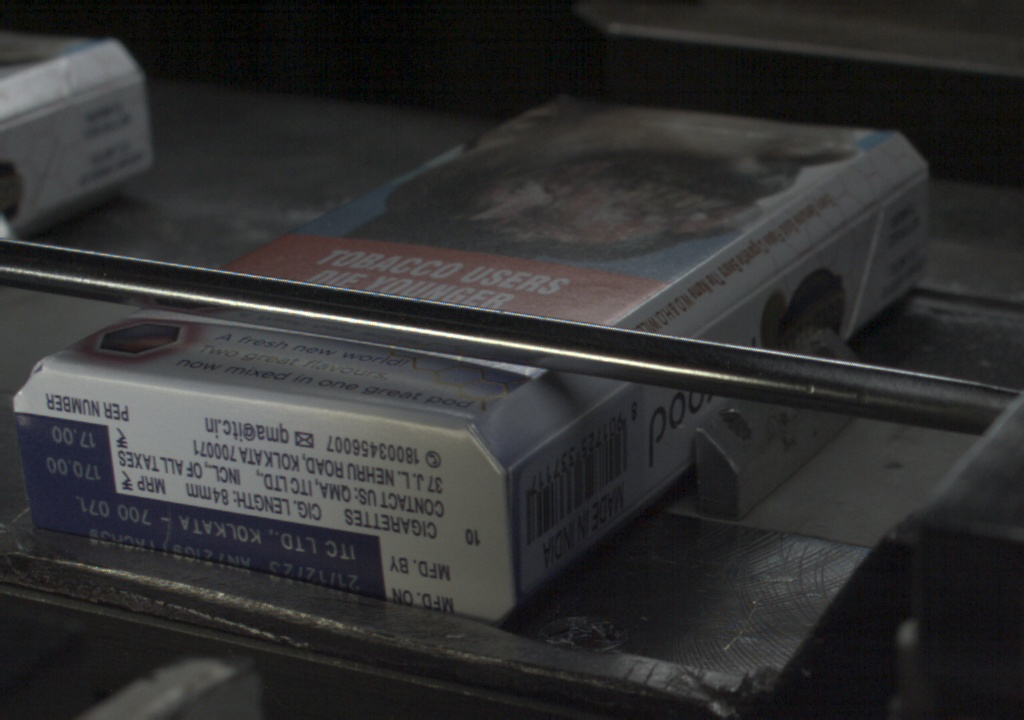g_bottom: (12, 377, 507, 626)
g_label: (29, 490, 385, 596)
g_lmiter: (700, 269, 791, 336), (793, 205, 877, 270), (509, 427, 573, 474), (571, 384, 629, 427)
g_miter: (876, 163, 935, 204)
price: (18, 419, 115, 488)
